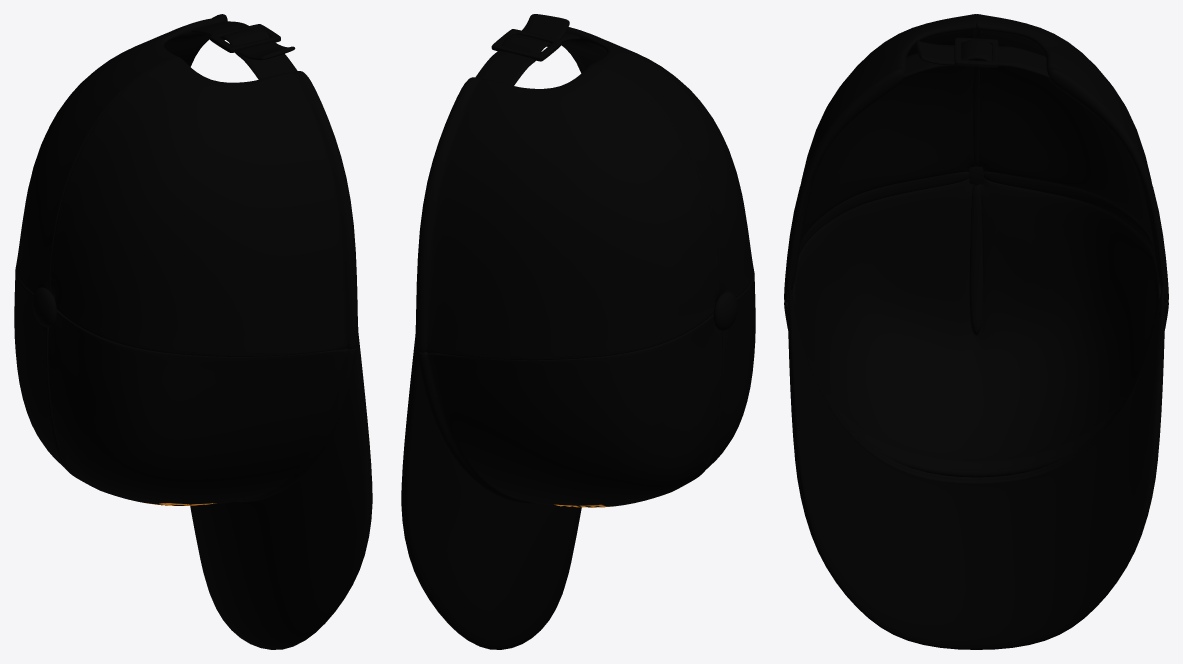
File: cap.obj
3 renders of one model, left to right at view 1: azimuth 30°, elevation 25°; view 2: azimuth 150°, elevation 25°; view 3: azimuth 270°, elevation 25°, orthographic.
Visible parts, largest first — view 1: head_StrapBuckle_0; view 2: head_StrapBuckle_0; view 3: head_StrapBuckle_0.
Part boxes in pixels (bbox=[...]): head_StrapBuckle_0: bbox=[14, 14, 372, 649]; head_StrapBuckle_0: bbox=[401, 14, 755, 649]; head_StrapBuckle_0: bbox=[784, 14, 1168, 649].
Size of the model in its own units: 1.3 by 3.04 by 1.75.
Materials: 1 (1 with a texture image).
